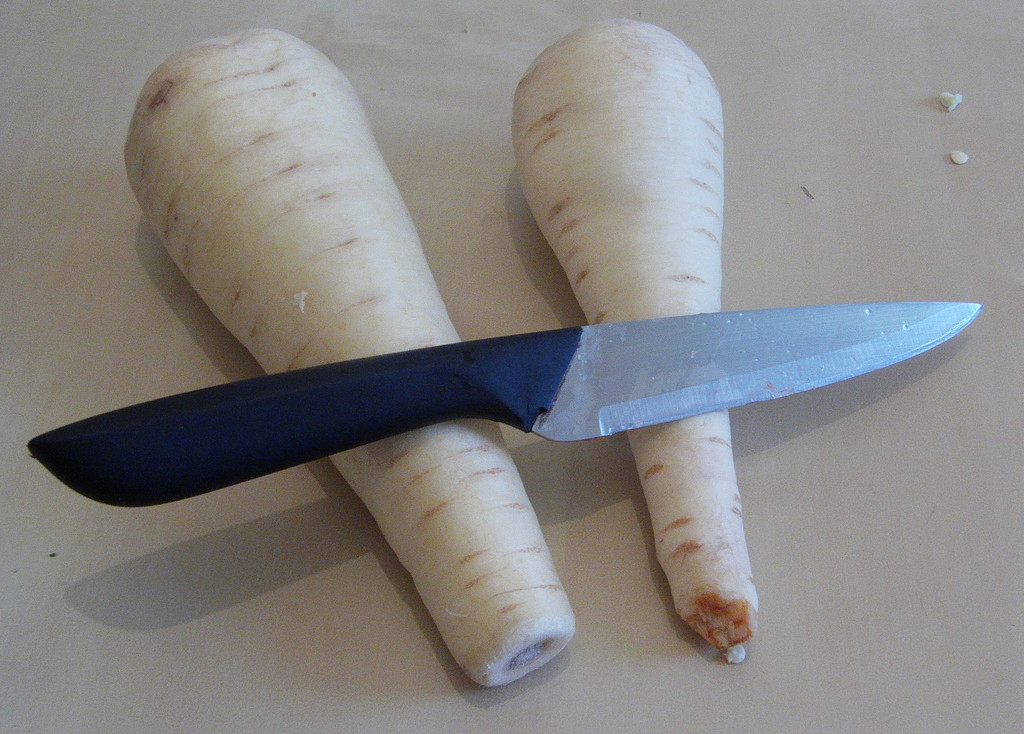kitchen knife: (29, 295, 979, 510)
